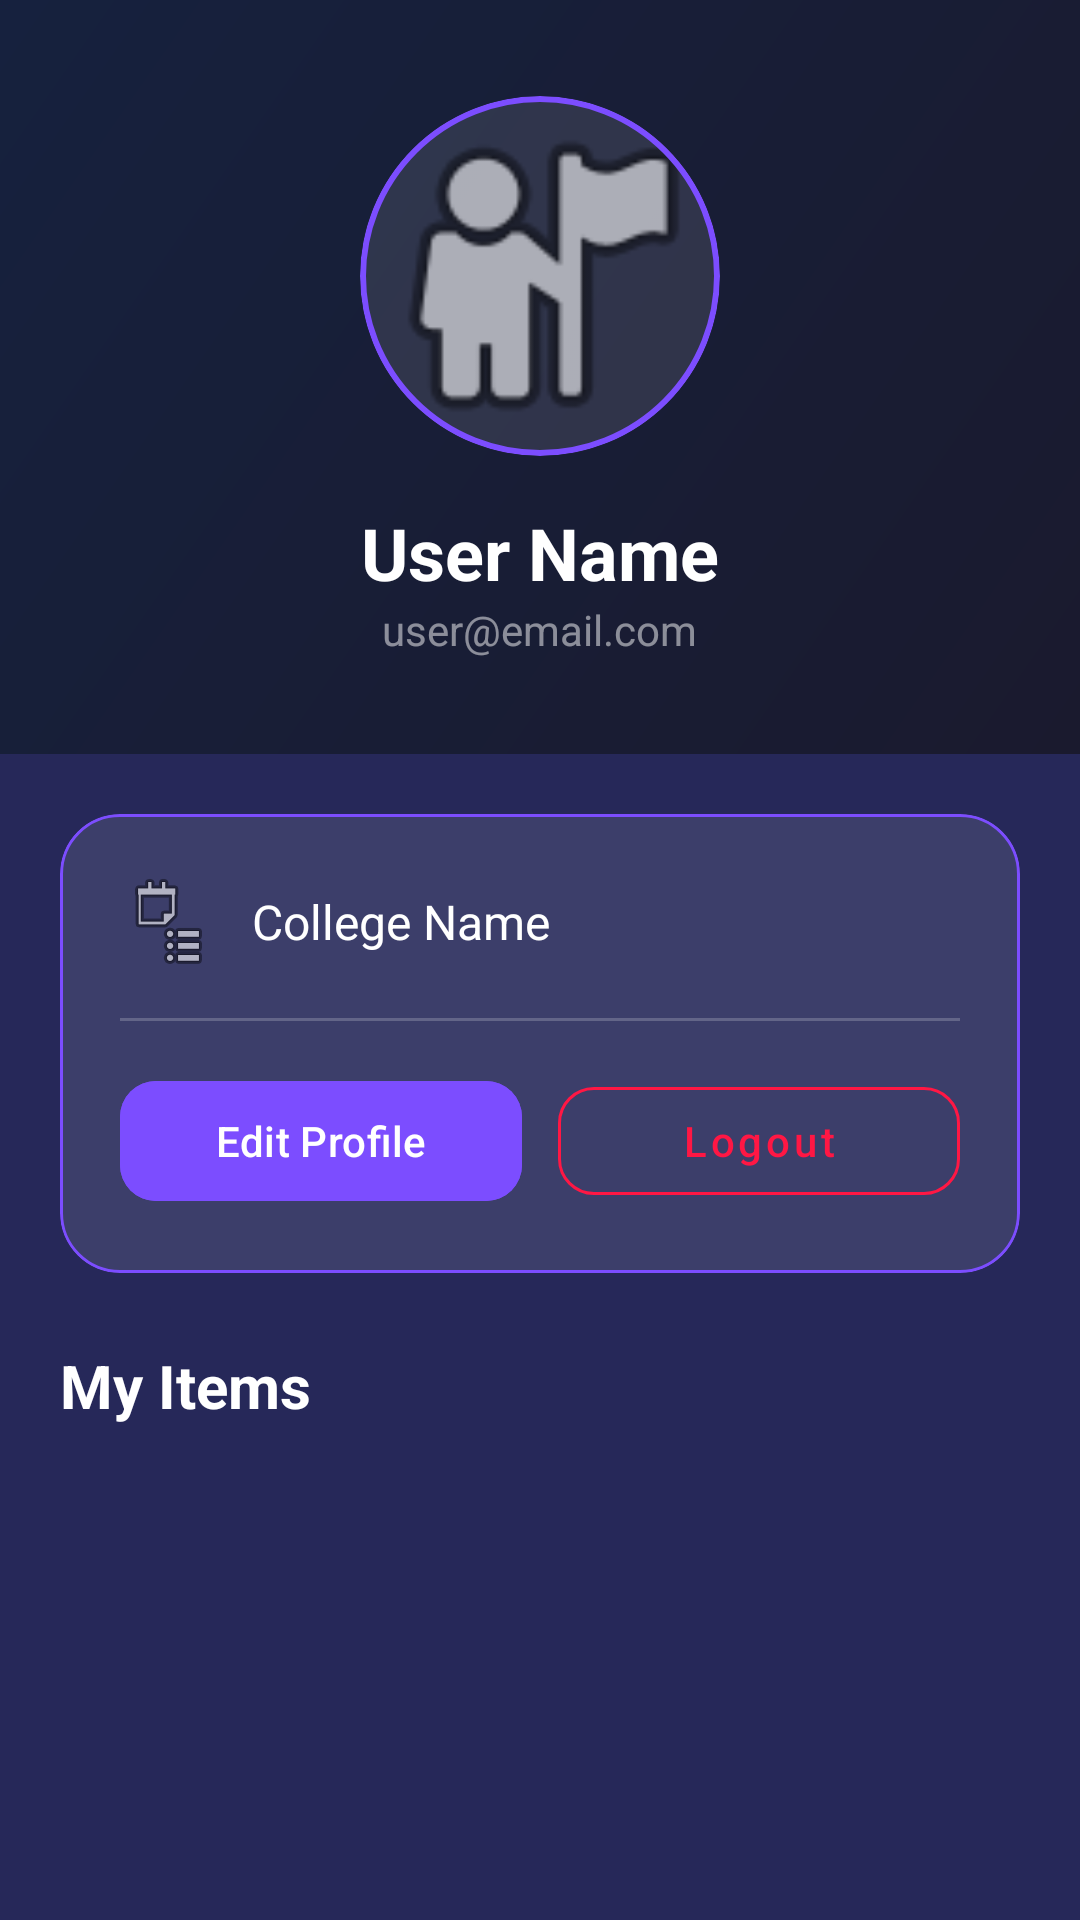

Icons on this 1080w x 1920h Android screen, each with the point to tap as (x,y):
myplaces: (540,276)
